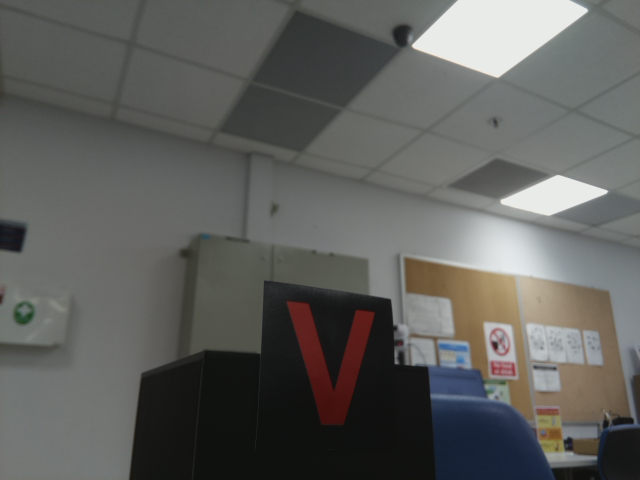v: (275, 298, 390, 439)
